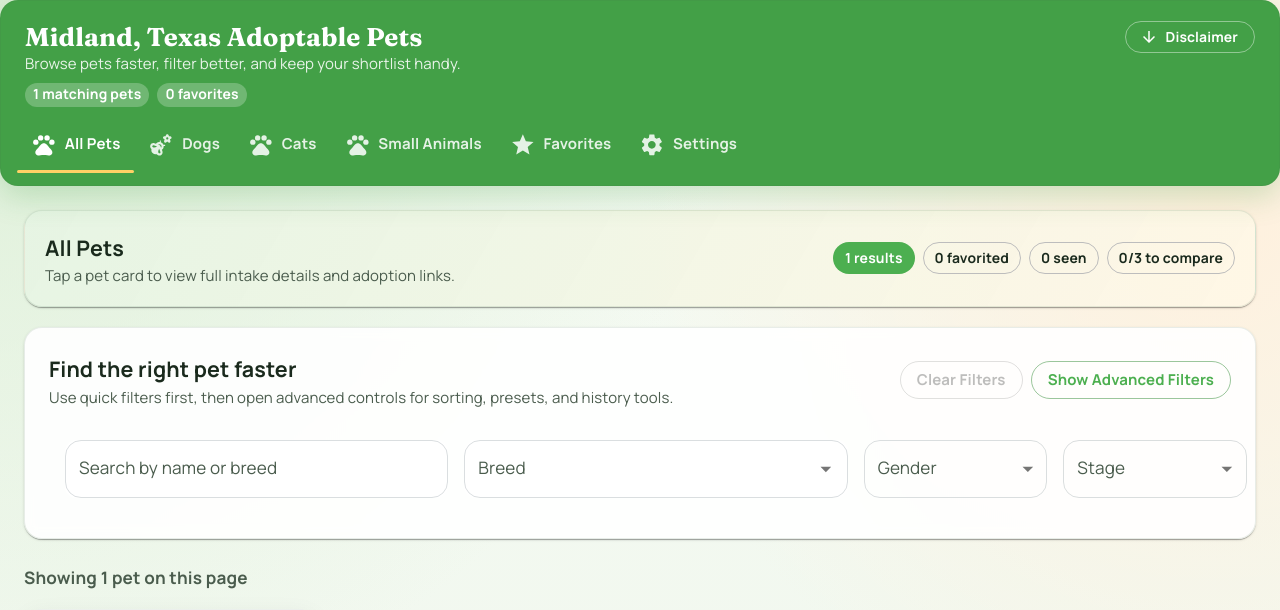
Test: App › renders personal fit controls in Settings tab and hides listing controls there
Click the tab "Settings" at point(688, 145), box [625,117,751,173]
(page scrolled)
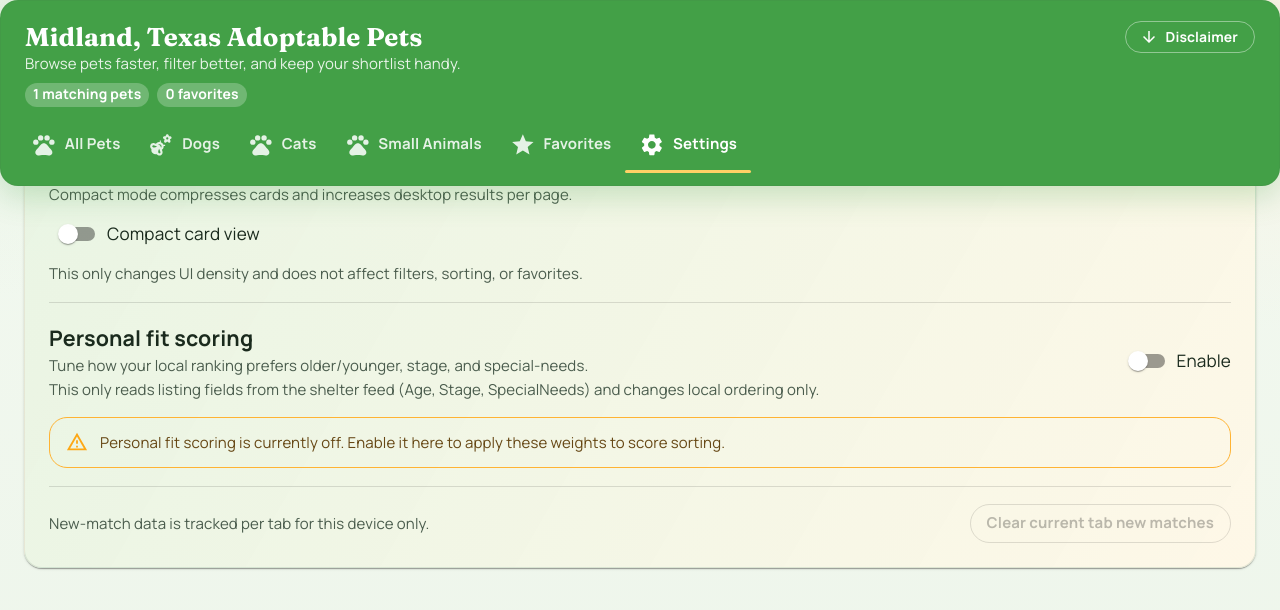
Now the heading "Personal fit scoring" is shown, box [49,322,253,352]
Now the checkbox labelled "Enable" is shown, box [1118,342,1231,380]
Now the label "Search by name or breed" is gone
